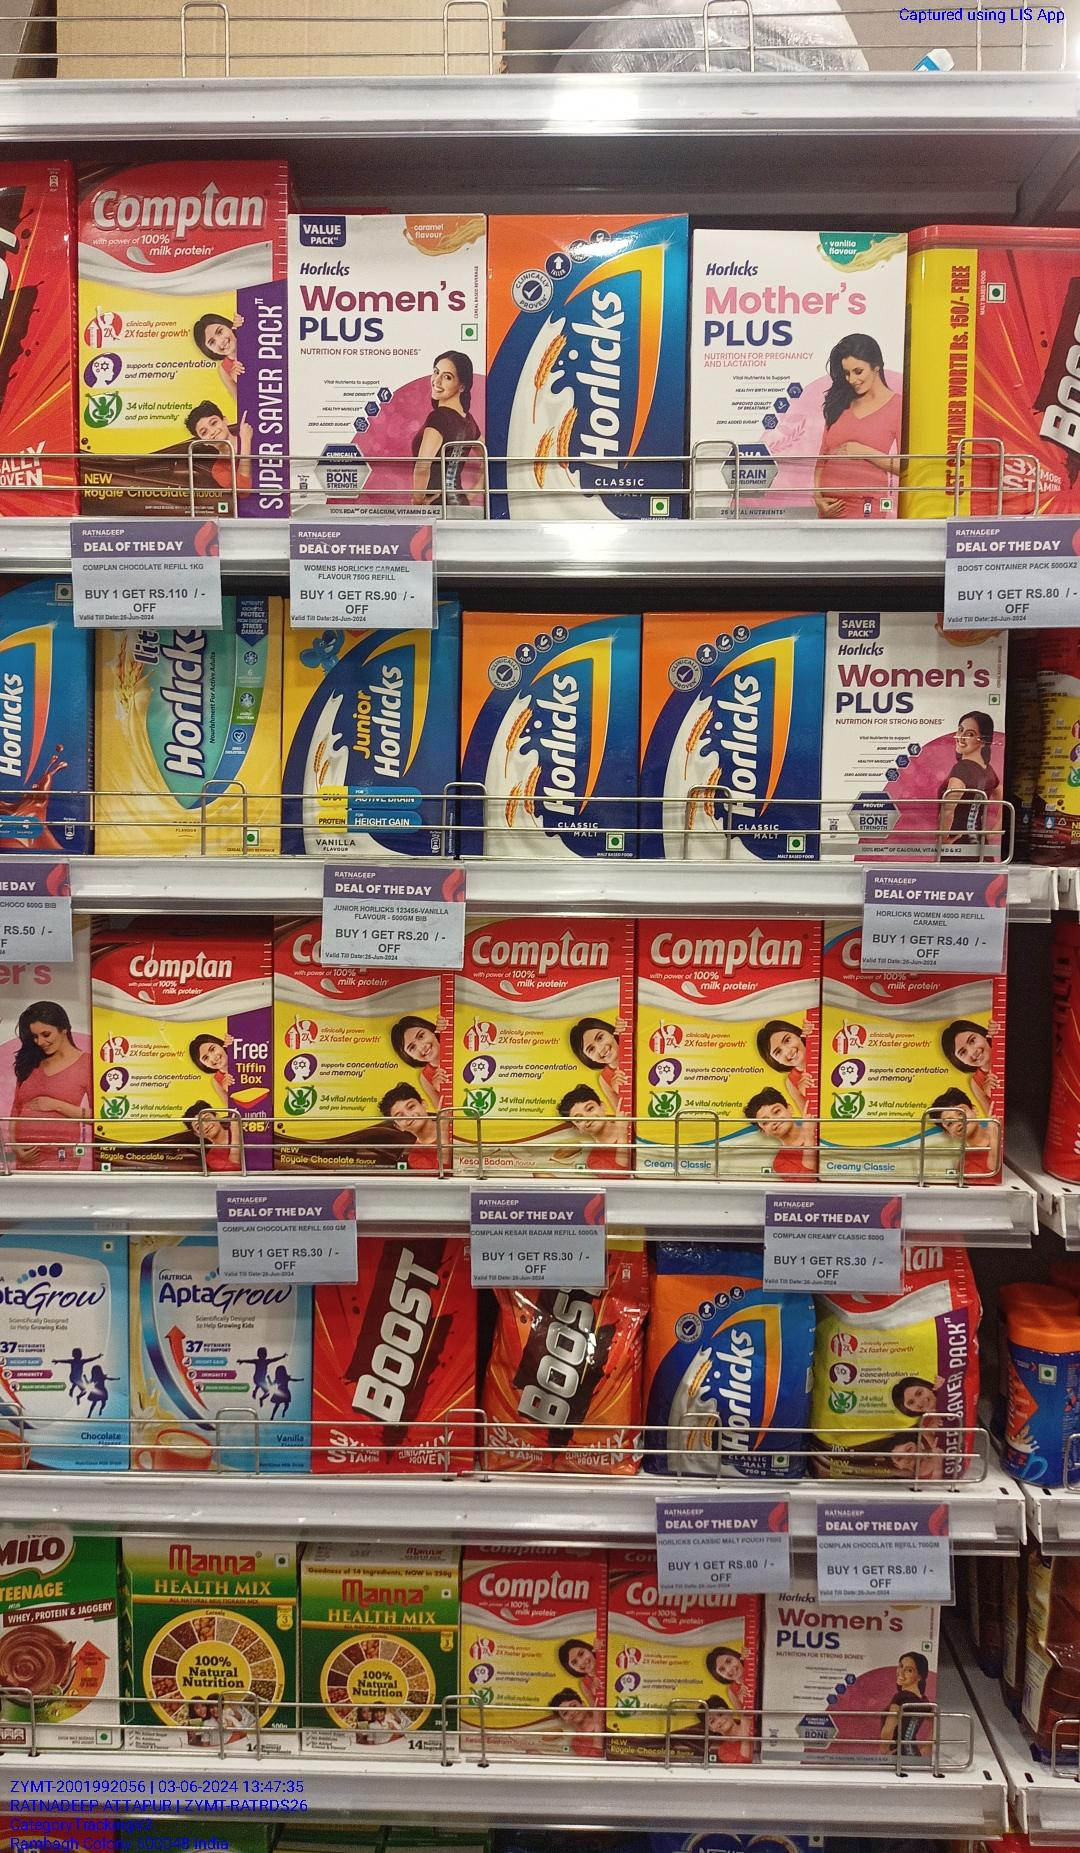COMPLAN_CHOCOLATE_1_KG_PACK: (73, 158, 289, 515), (270, 965, 451, 1178)
COMPLAN_CHOCOLATE_200_GMS_PACK: (607, 1592, 748, 1771)
COMPLAN_KESAR_BADAM_200_GMS_PACK: (462, 1564, 606, 1759)
COMPLAN_KESAR_BADAM_500_GMS_PACK: (456, 915, 631, 1182)
COMPLAN_RC_POUCH_700_GMS_12: (827, 1295, 969, 1483)
HORLICK_CLASSIC_MALT_750_G_POUCH: (657, 1271, 805, 1479)
